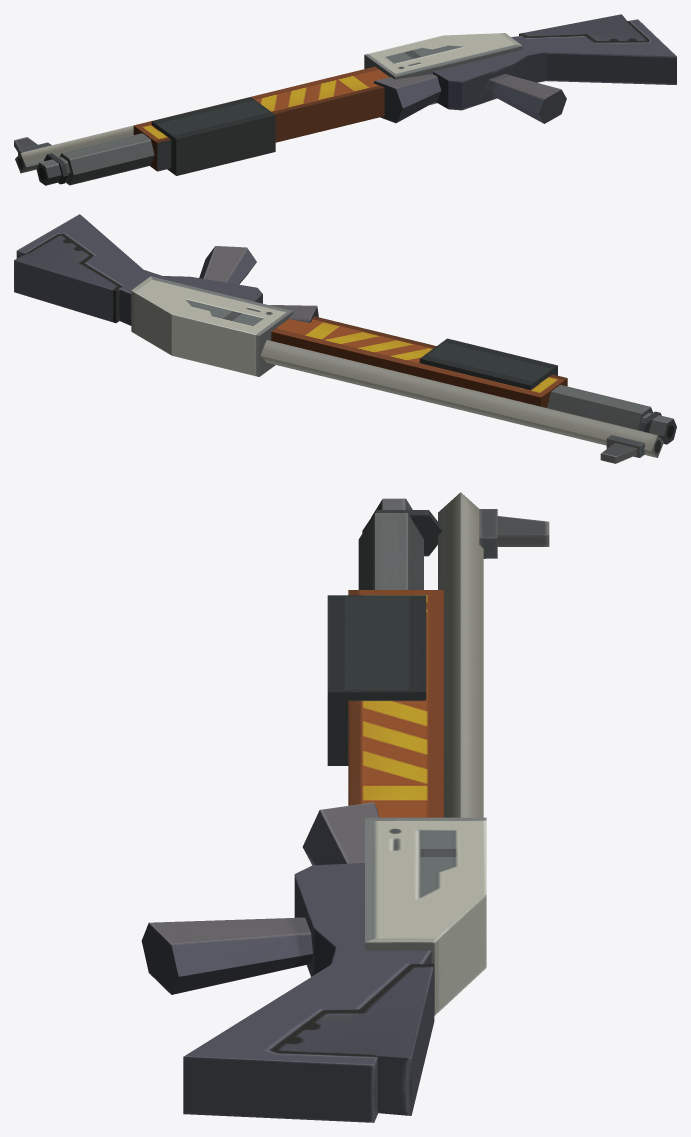
File: weapon_shotgun.FBX
The picture shows the model from 3 angles, top to bottom: view 1: azimuth 30°, elevation 25°; view 2: azimuth 150°, elevation 25°; view 3: azimuth 270°, elevation 25°; orthographic projection. The views are drawn at different scales.
Visible parts, largest first — view 1: weapon_shotgun; view 2: weapon_shotgun; view 3: weapon_shotgun.
Part boxes in pixels (bbox=[...]): weapon_shotgun: bbox=[14, 14, 676, 185]; weapon_shotgun: bbox=[14, 214, 676, 463]; weapon_shotgun: bbox=[141, 492, 549, 1122].
Size of the model in its own units: 182 by 10.77 by 53.91.
